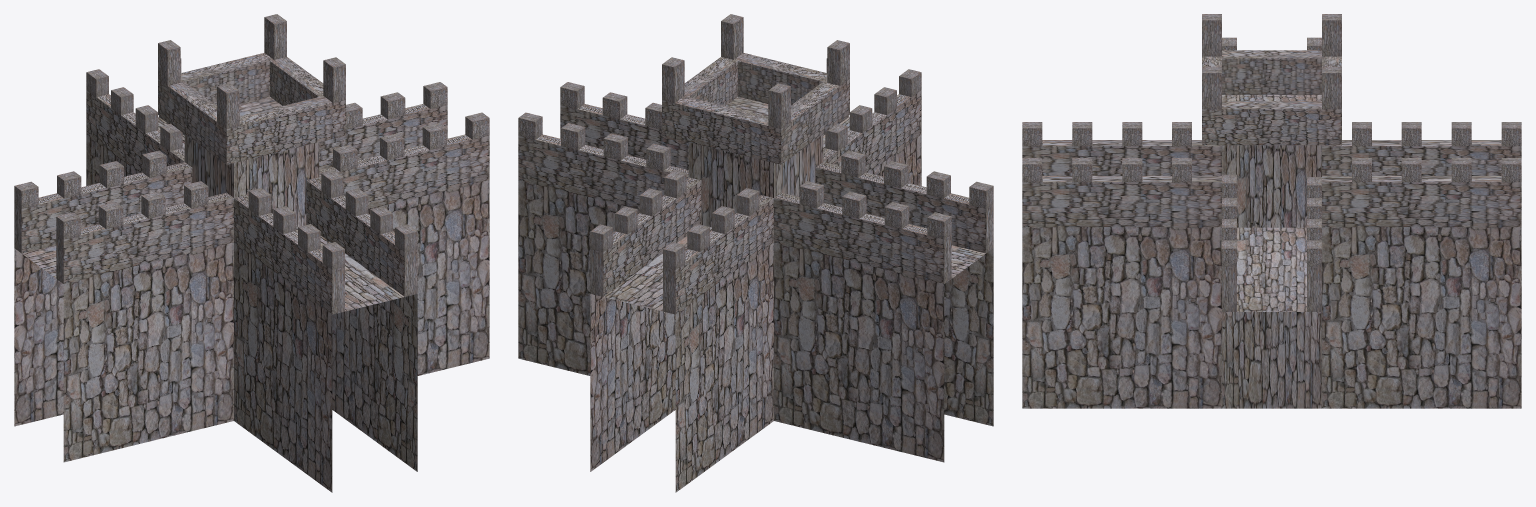
Rendered from Wall.obj.
3 renders of one model, left to right at view 1: azimuth 30°, elevation 25°; view 2: azimuth 150°, elevation 25°; view 3: azimuth 270°, elevation 25°, orthographic.
Parts seen in each view (by area): view 1: Left_wall_Cube.015, Front_walls_Cube.017, Right_wall_Cube.016, Left_guard_2_Cube.027, Right_guard_1_Cube.028, Pillar_Cube.001, Left_guard_1_Cube.026, Front_guard_1_Cube.058, Front_guard_2_Cube.059, Roof_plane_4_Cube.072, Back_guard_2_Cube.039, Right_guard_2_Cube.029 (+34 smaller); view 2: Left_wall_Cube.015, Back_walls_Cube.014, Right_wall_Cube.016, Left_guard_1_Cube.026, Right_guard_2_Cube.029, Pillar_Cube.001, Left_guard_2_Cube.027, Back_guard_2_Cube.039, Back_guard_1_Cube.038, Roof_plane_3_Cube.071, Front_guard_1_Cube.058, Right_guard_1_Cube.028 (+34 smaller); view 3: Back_walls_Cube.014, Front_walls_Cube.017, Pillar_Cube.001, Back_guard_1_Cube.038, Front_guard_2_Cube.059, Roof_plane_2_Cube.070, Right_wall_Cube.016, Back_guard_2_Cube.039, Front_guard_1_Cube.058, Roof_plane_1_Cube.069, Roof_top_1_Cube.073, Roof_top_2_Cube.074 (+4 smaller).
Boxes of the visible parts, x1,y1,x2,y2 form: Left_wall_Cube.015: (14, 242, 233, 462); Front_walls_Cube.017: (234, 227, 417, 492); Right_wall_Cube.016: (368, 180, 489, 375); Left_guard_2_Cube.027: (56, 192, 233, 283); Right_guard_1_Cube.028: (319, 134, 489, 209); Pillar_Cube.001: (184, 96, 319, 227); Left_guard_1_Cube.026: (14, 162, 192, 253); Front_guard_1_Cube.058: (234, 195, 344, 314); Front_guard_2_Cube.059: (306, 177, 417, 296); Roof_plane_4_Cube.072: (226, 97, 345, 164); Back_guard_2_Cube.039: (86, 90, 184, 172); Right_guard_2_Cube.029: (319, 104, 447, 169); Left_wall_Cube.015: (774, 242, 993, 462); Back_walls_Cube.014: (590, 227, 773, 492); Right_wall_Cube.016: (518, 180, 639, 375); Left_guard_1_Cube.026: (774, 192, 951, 283); Right_guard_2_Cube.029: (518, 134, 688, 209); Pillar_Cube.001: (688, 96, 823, 227); Left_guard_2_Cube.027: (815, 162, 993, 253); Back_guard_2_Cube.039: (663, 195, 773, 314); Back_guard_1_Cube.038: (590, 177, 701, 296); Roof_plane_3_Cube.071: (662, 97, 781, 164); Front_guard_1_Cube.058: (823, 90, 921, 172); Right_guard_1_Cube.028: (560, 104, 688, 169); Back_walls_Cube.014: (1322, 227, 1521, 408); Front_walls_Cube.017: (1022, 227, 1221, 408); Pillar_Cube.001: (1222, 95, 1321, 408); Back_guard_1_Cube.038: (1322, 176, 1521, 227); Front_guard_2_Cube.059: (1022, 176, 1221, 227); Roof_plane_2_Cube.070: (1202, 101, 1341, 145); Right_wall_Cube.016: (1237, 227, 1306, 311); Back_guard_2_Cube.039: (1322, 140, 1521, 175); Front_guard_1_Cube.058: (1022, 140, 1221, 175); Roof_plane_1_Cube.069: (1218, 50, 1325, 94); Roof_top_1_Cube.073: (1322, 66, 1341, 109); Roof_top_2_Cube.074: (1202, 66, 1221, 109).
Bounding box in the file's own units: 10 × 7.6 × 10.
Materials: 1 (1 with a texture image).
